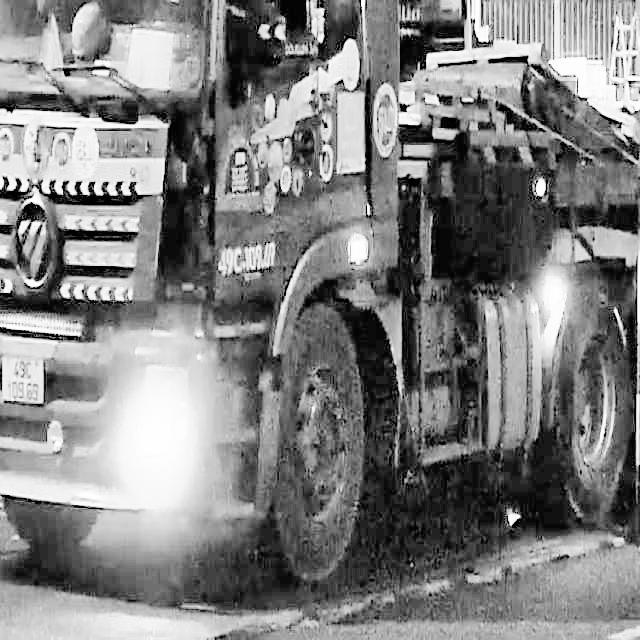Truck: (0, 0, 638, 591)
